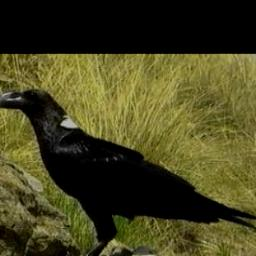Crow: (0, 87, 256, 256)
